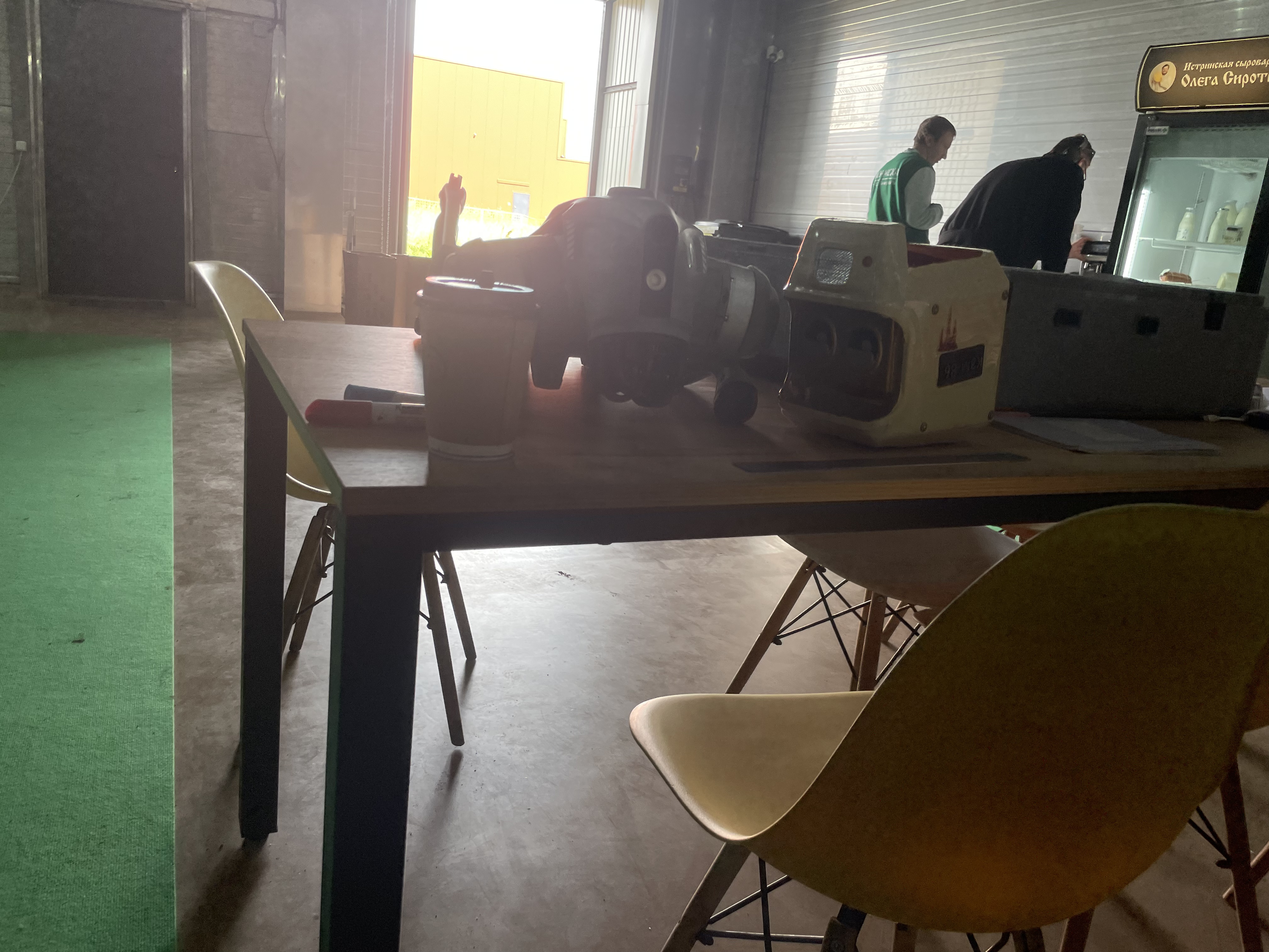cup: (415, 270, 542, 462)
